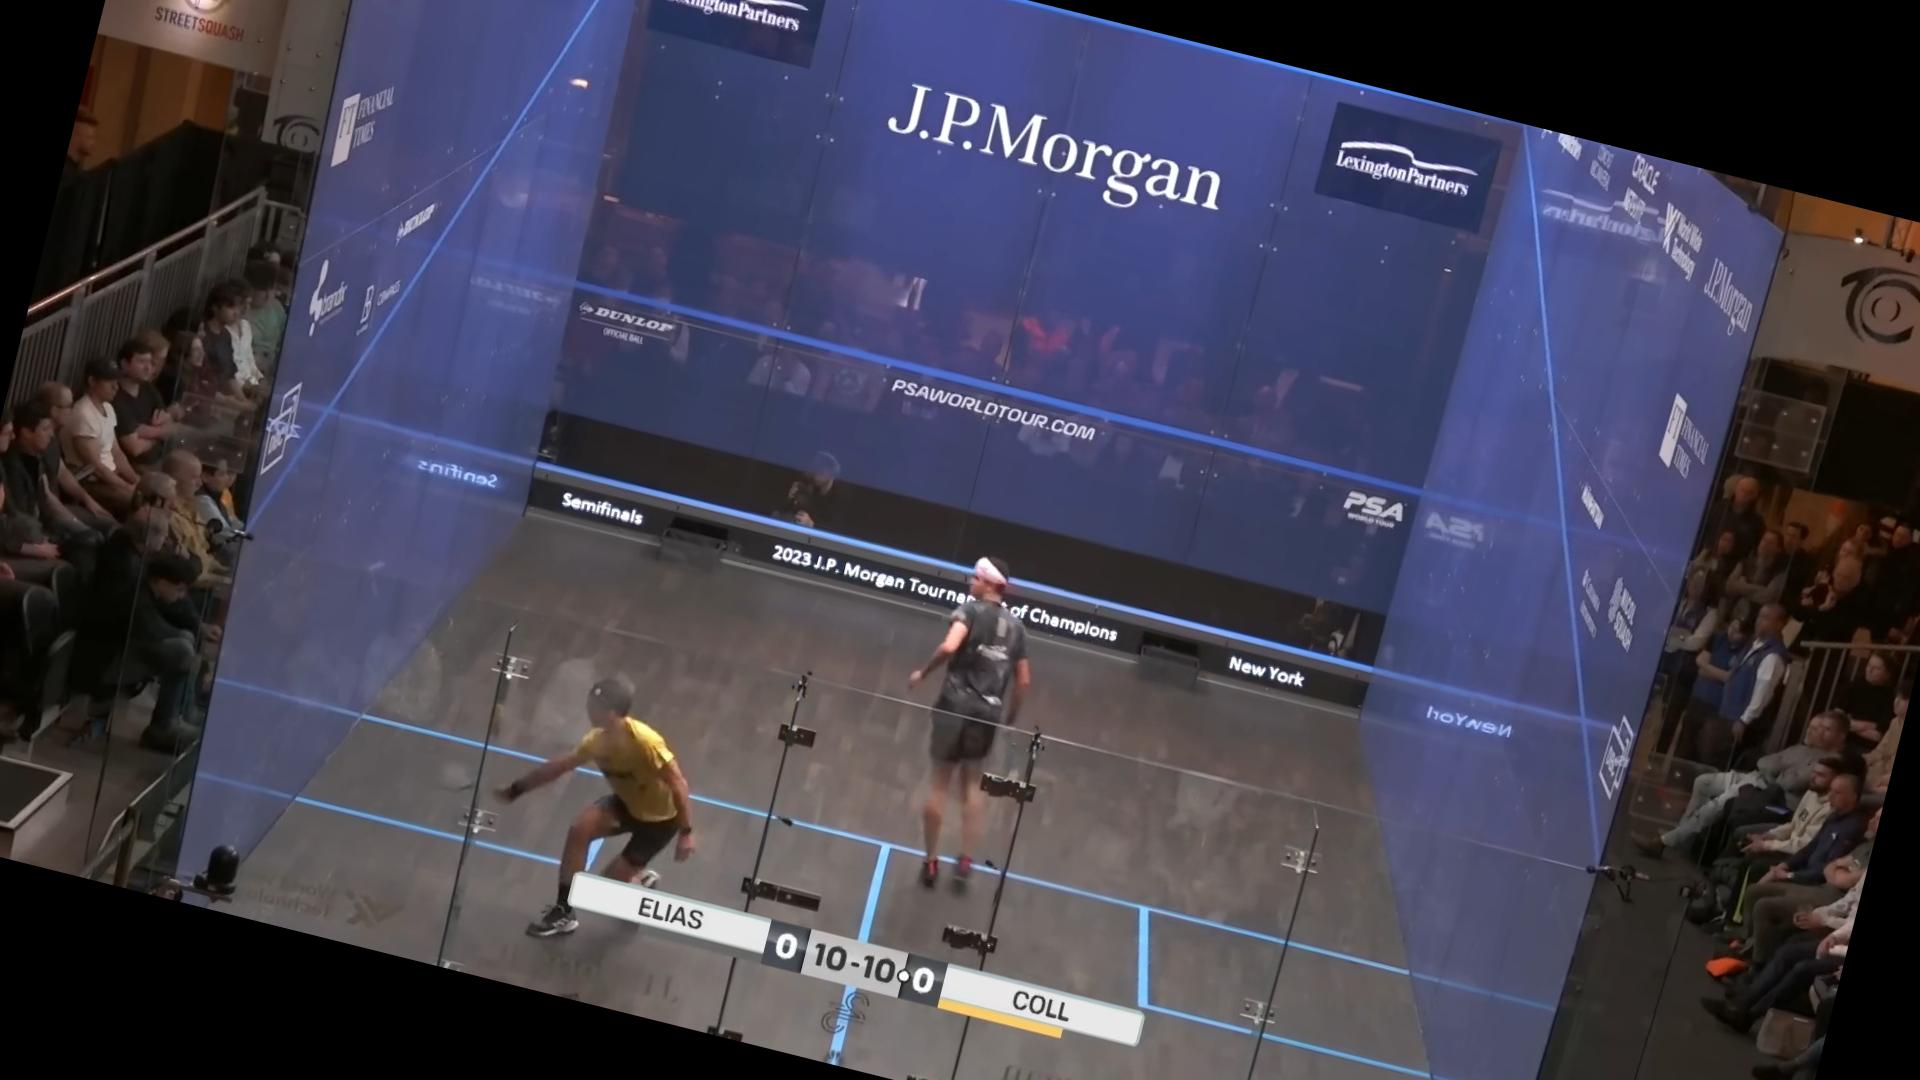Racket: (423, 742, 522, 814)
